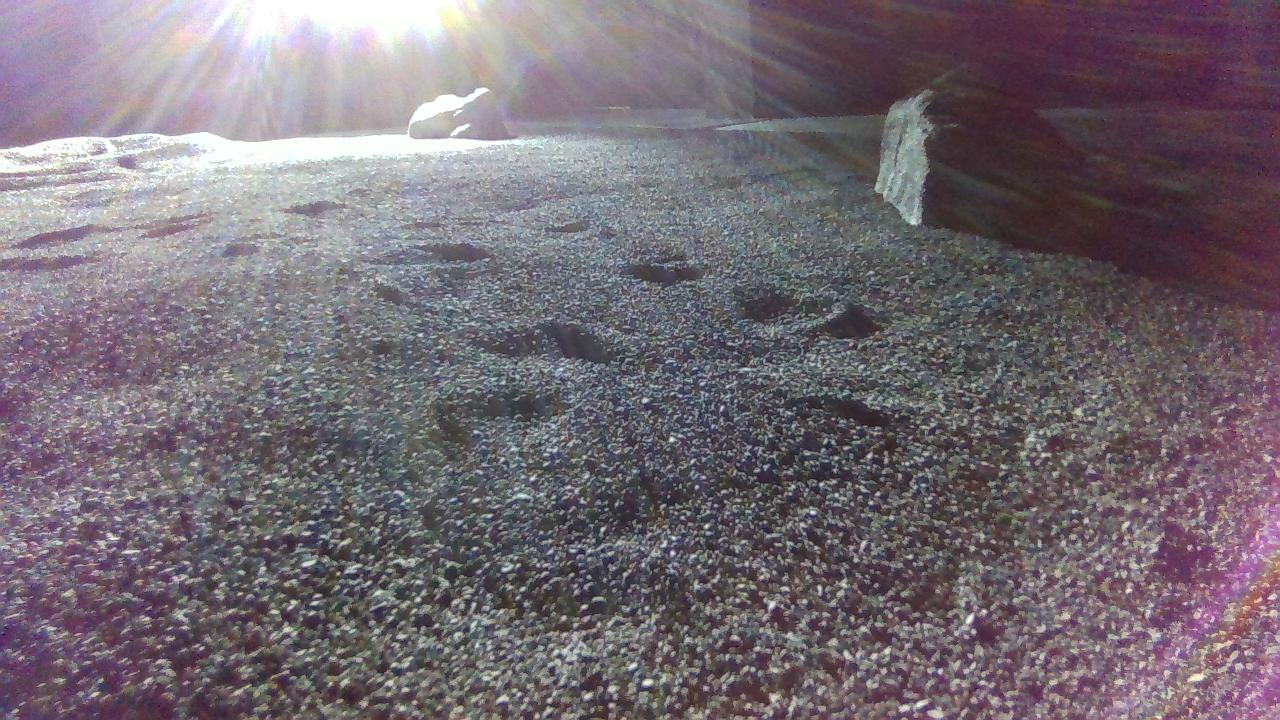rock: (877, 64, 1075, 229), (408, 86, 511, 137)
